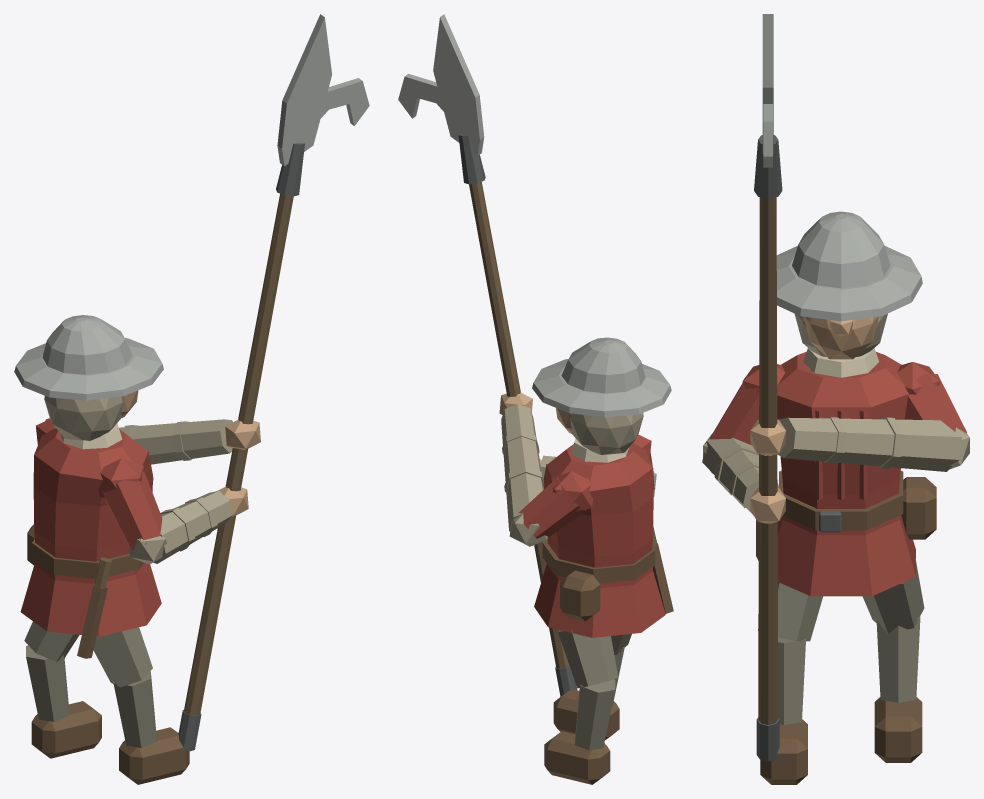
Rendered from infantry_polearm.glb.
The picture shows the model from 3 angles, left to right: view 1: azimuth 30°, elevation 25°; view 2: azimuth 150°, elevation 25°; view 3: azimuth 270°, elevation 25°; orthographic projection. The views are drawn at different scales.
Parts seen in each view (by area): view 1: infantry_polearm_team_cloth, infantry_polearm_steel, infantry_polearm_padded_linen, infantry_polearm_leather, infantry_polearm_hose, infantry_polearm_oak_dark, infantry_polearm_skin, infantry_polearm_iron, infantry_polearm_linen; view 2: infantry_polearm_team_cloth, infantry_polearm_steel, infantry_polearm_leather, infantry_polearm_padded_linen, infantry_polearm_hose, infantry_polearm_oak_dark, infantry_polearm_iron, infantry_polearm_skin, infantry_polearm_linen; view 3: infantry_polearm_team_cloth, infantry_polearm_steel, infantry_polearm_padded_linen, infantry_polearm_leather, infantry_polearm_hose, infantry_polearm_oak_dark, infantry_polearm_skin, infantry_polearm_iron, infantry_polearm_linen.
Boxes of the visible parts, x1=… form: infantry_polearm_team_cloth: x1=20, y1=418, x2=162, y2=636; infantry_polearm_steel: x1=14, y1=14, x2=369, y2=400; infantry_polearm_padded_linen: x1=44, y1=396, x2=232, y2=564; infantry_polearm_leather: x1=27, y1=524, x2=189, y2=784; infantry_polearm_hose: x1=24, y1=621, x2=156, y2=747; infantry_polearm_oak_dark: x1=94, y1=193, x2=293, y2=715; infantry_polearm_skin: x1=121, y1=390, x2=260, y2=516; infantry_polearm_iron: x1=178, y1=143, x2=304, y2=751; infantry_polearm_linen: x1=60, y1=423, x2=122, y2=449; infantry_polearm_team_cloth: x1=518, y1=434, x2=665, y2=637; infantry_polearm_steel: x1=398, y1=14, x2=671, y2=417; infantry_polearm_leather: x1=542, y1=540, x2=673, y2=784; infantry_polearm_padded_linen: x1=501, y1=404, x2=656, y2=546; infantry_polearm_hose: x1=558, y1=629, x2=631, y2=750; infantry_polearm_oak_dark: x1=469, y1=182, x2=657, y2=668; infantry_polearm_iron: x1=458, y1=134, x2=577, y2=696; infantry_polearm_skin: x1=499, y1=392, x2=571, y2=464; infantry_polearm_linen: x1=571, y1=438, x2=628, y2=462; infantry_polearm_team_cloth: x1=710, y1=352, x2=966, y2=596; infantry_polearm_steel: x1=762, y1=14, x2=922, y2=321; infantry_polearm_padded_linen: x1=702, y1=313, x2=969, y2=515; infantry_polearm_leather: x1=756, y1=470, x2=936, y2=784; infantry_polearm_hose: x1=758, y1=559, x2=924, y2=724; infantry_polearm_oak_dark: x1=758, y1=197, x2=778, y2=724; infantry_polearm_skin: x1=750, y1=316, x2=878, y2=523; infantry_polearm_iron: x1=754, y1=135, x2=841, y2=761; infantry_polearm_linen: x1=803, y1=348, x2=878, y2=377.
Size of the model in its own units: 1.34 by 2.96 by 0.8429.
